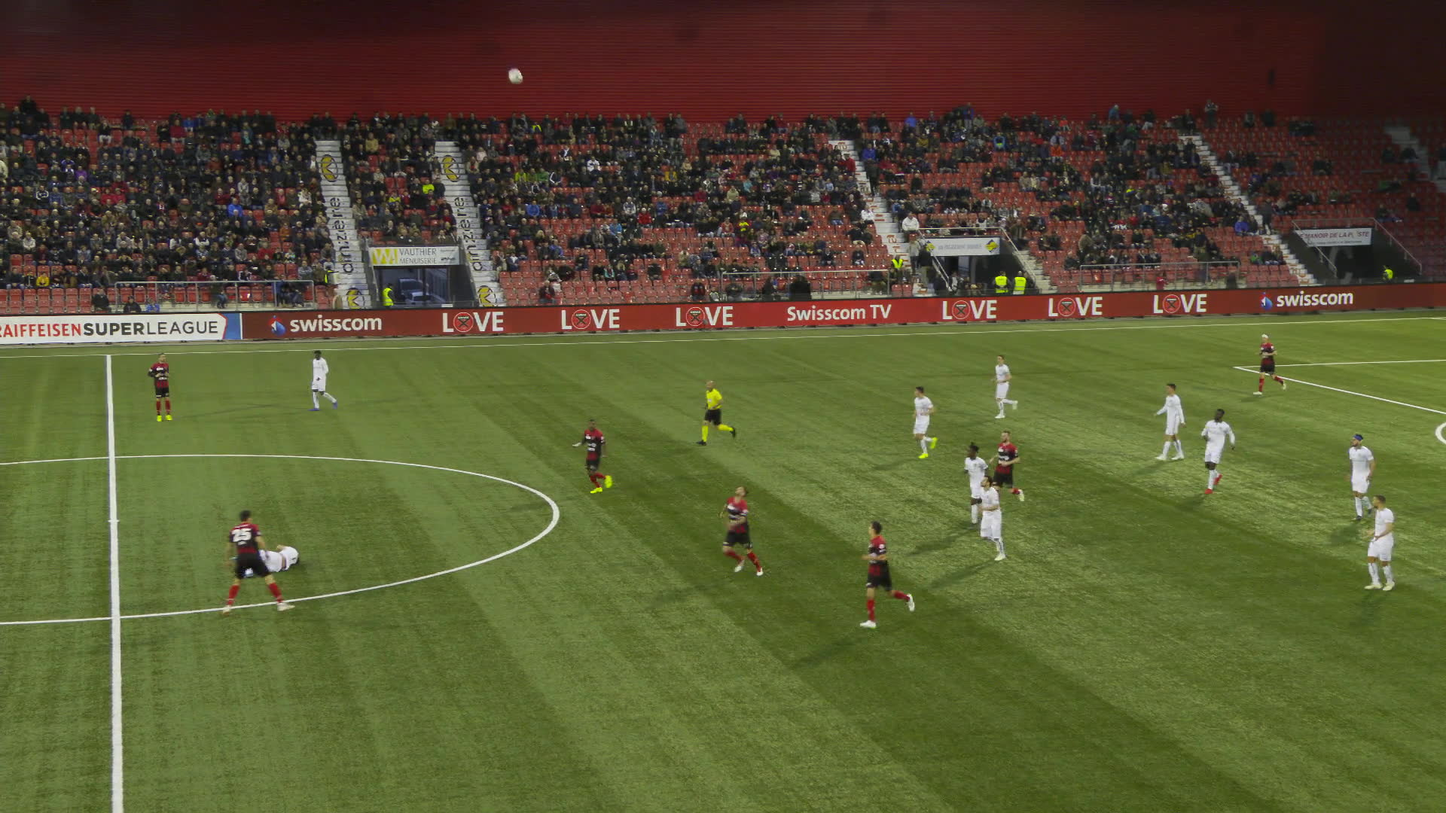ball: (509, 69, 522, 81)
player: (230, 510, 288, 616), (864, 520, 908, 625), (715, 483, 761, 577), (1359, 496, 1398, 592), (575, 417, 621, 494), (987, 426, 1026, 510), (1345, 435, 1381, 522), (1200, 404, 1234, 492), (233, 538, 301, 579), (977, 473, 1008, 561), (962, 443, 994, 524), (912, 383, 946, 457), (1155, 382, 1183, 461), (990, 352, 1023, 417), (148, 356, 180, 422), (306, 350, 340, 411), (1255, 333, 1283, 394)
referee: (700, 379, 737, 444)
